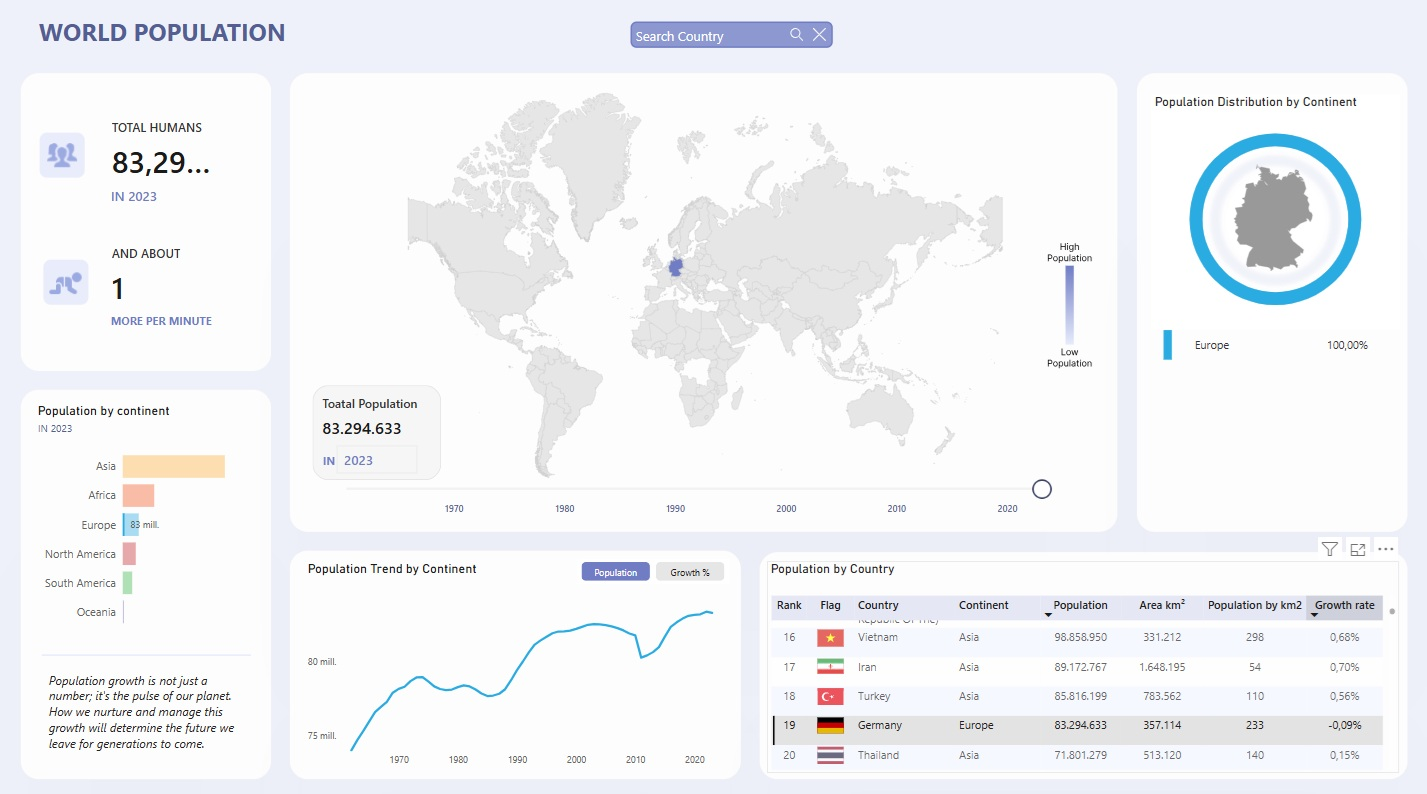

The dashboard page shown, as its layout file describes it:
{"tool":"powerbi","page":{"name":"Population","canvas":[1920,1080],"ordinal":0},"visuals":[{"type":"group","id":"g1","title":"Map","box":[401,101,1100,578.7],"z":0},{"type":"shapeMap","fields":{"Category":["Country2.Country"],"Value":["Sum(Country2.Value)"]},"box":[401.7,101.1,1099.3,578.6],"z":0,"group":"g1"},{"type":"shapeMap","fields":{"Category":["Countries.Country"],"Value":["Population.Latest Population Count"]},"box":[1625.3,216,162.6,166.8],"z":0,"group":"g3"},{"type":"clusteredColumnChart","fields":{"Y":["Population.Total Population 2"],"Category":["Years.Date"]},"box":[465.7,593.8,963.7,112],"z":0,"group":"g2"},{"type":"shapeMap","fields":{"Category":["Countries.Country"],"Value":["Population.Latest Population Count"]},"box":[401,101,1098.4,578],"z":1000,"group":"g1"},{"type":"shape","box":[1614.8,208.4,190,190],"z":1000,"group":"g3"},{"type":"slicer","fields":{"Values":["Years2.Years2"]},"box":[448,594.1,972.3,122.4],"z":1000,"group":"g2"},{"type":"tableEx","title":"Population by Country","fields":{"Values":["_Measures.Ranking","Countries.Flag","Countries.Country","Countries.Continent","Population.Latest Population Count","Countries.Area km²","Population.Population by km2","_Measures.Growth rate 2"]},"box":[1033.7,756.7,840.8,282.6],"z":1000},{"type":"tableEx","fields":{"Values":["Countries.Continent 2","Countries.Blank","Countries.Continent","Population.Latest Population Count"]},"box":[1554.7,395.6,319.8,314.3],"z":2000},{"type":"textbox","box":[422.7,608.6,41.3,34.5],"z":2000,"group":"g2"},{"type":"cardVisual","title":"TOTAL HUMANS","fields":{"Data":["Population.Latest Population Count"]},"box":[419,508.1,186.2,146.3],"z":3000},{"type":"lineChart","fields":{"Y":["_Measures.Total Population"],"Series":["Countries.Continent"],"Category":["Years.Year"]},"box":[418.2,757,568.7,282.4],"z":4000},{"type":"cardVisual","title":"TOTAL HUMANS","fields":{"Data":["Population.Latest Population Count"]},"box":[145,151.6,207.5,102.4],"z":5000},{"type":"cardVisual","title":"ABOUT","fields":{"Data":["Population.Birt Rate per minute"]},"box":[145.3,319.2,196.8,107.7],"z":6000},{"type":"multiRowCard","fields":{"Values":["Years.in Year label"]},"box":[155.9,254,115.7,42.6],"z":7000},{"type":"textbox","box":[155.6,421.6,174.2,50.5],"z":8000},{"type":"textbox","box":[60.3,25.5,365.8,63],"z":9000},{"type":"clusteredBarChart","title":"Population by continent","fields":{"Category":["Countries.Continent"],"Y":["_Measures.Latest Population Count"]},"box":[57.9,547.2,314.3,314.3],"z":10000},{"type":"textbox","box":[73.1,898.7,274.3,140.6],"z":11000},{"type":"advancedSlicerVisual","fields":{"Values":["Pop Parameter.Pop Parameter"]},"box":[780.7,754.1,203.5,33.3],"z":12000},{"type":"group","id":"g2","title":"year_slicer","box":[422.7,593.8,1006.6,122.6],"z":16000},{"type":"donutChart","title":"Population Distribution by Continent","fields":{"Category":["Countries.Continent"],"Y":["Population.Latest Population Count"]},"box":[1543.7,135.1,330.8,314.3],"z":17000},{"type":"group","id":"g3","title":"mini_map","box":[1614.8,208.4,190,190],"z":18000},{"type":"textSearchSlicerF85E2E78BE4A4D7D9F99ED75B5D71C85","fields":{"fields":["Countries.Country"]},"box":[841.9,29.3,288.6,58.5],"z":19000}]}

Visuals, with their boxes in screenshot pixels (x1, y1, x2, y2), scaled from the page's 1920x1080 canvas onto the 1427x794 screenshot:
"Map" group: crop(298, 74, 1116, 500)
shapeMap - Country2.Country x Sum(Country2.Value): crop(299, 74, 1116, 500)
shapeMap - Countries.Country x Population.Latest Population Count: crop(1208, 159, 1329, 281)
clusteredColumnChart - Population.Total Population 2 x Years.Date: crop(346, 437, 1062, 519)
shapeMap - Countries.Country x Population.Latest Population Count: crop(298, 74, 1114, 499)
shape: crop(1200, 153, 1341, 293)
slicer - Years2.Years2: crop(333, 437, 1056, 527)
"Population by Country" tableEx: crop(768, 556, 1393, 764)
tableEx - Countries.Continent 2 x Countries.Blank: crop(1155, 291, 1393, 522)
textbox: crop(314, 447, 345, 473)
"TOTAL HUMANS" cardVisual: crop(311, 374, 450, 481)
lineChart - _Measures.Total Population x Countries.Continent: crop(311, 557, 733, 764)
"TOTAL HUMANS" cardVisual: crop(108, 111, 262, 187)
"ABOUT" cardVisual: crop(108, 235, 254, 314)
multiRowCard - Years.in Year label: crop(116, 187, 202, 218)
textbox: crop(116, 310, 245, 347)
textbox: crop(45, 19, 317, 65)
"Population by continent" clusteredBarChart: crop(43, 402, 277, 633)
textbox: crop(54, 661, 258, 764)
advancedSlicerVisual - Pop Parameter.Pop Parameter: crop(580, 554, 731, 579)
"year_slicer" group: crop(314, 437, 1062, 527)
"Population Distribution by Continent" donutChart: crop(1147, 99, 1393, 330)
"mini_map" group: crop(1200, 153, 1341, 293)
textSearchSlicerF85E2E78BE4A4D7D9F99ED75B5D71C85 - Countries.Country: crop(626, 22, 840, 65)
